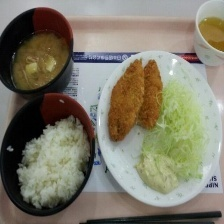rice: (16, 116, 91, 209)
